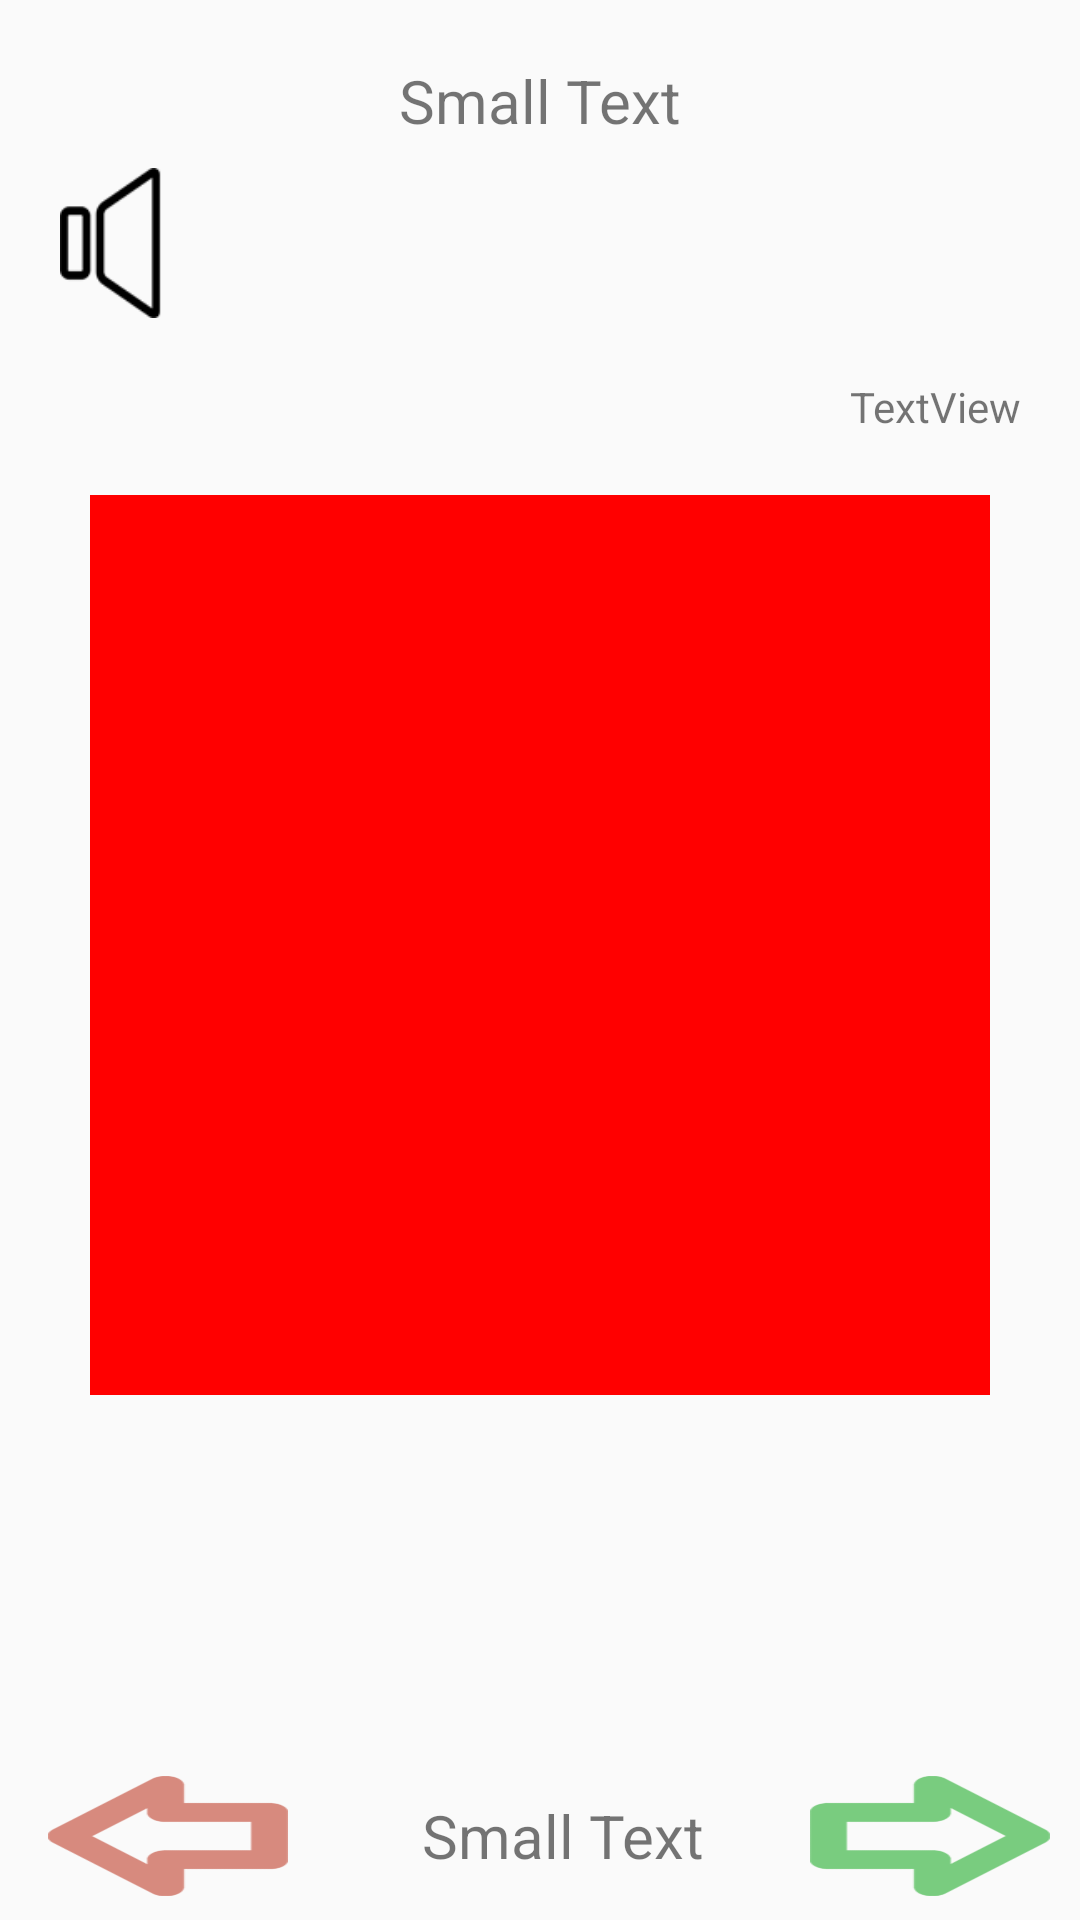

Icon bounding boxes for this 1080 x 1920 phone screenshot, format (x1,y1,x2,y2):
speaker off: (60,168,161,318)
